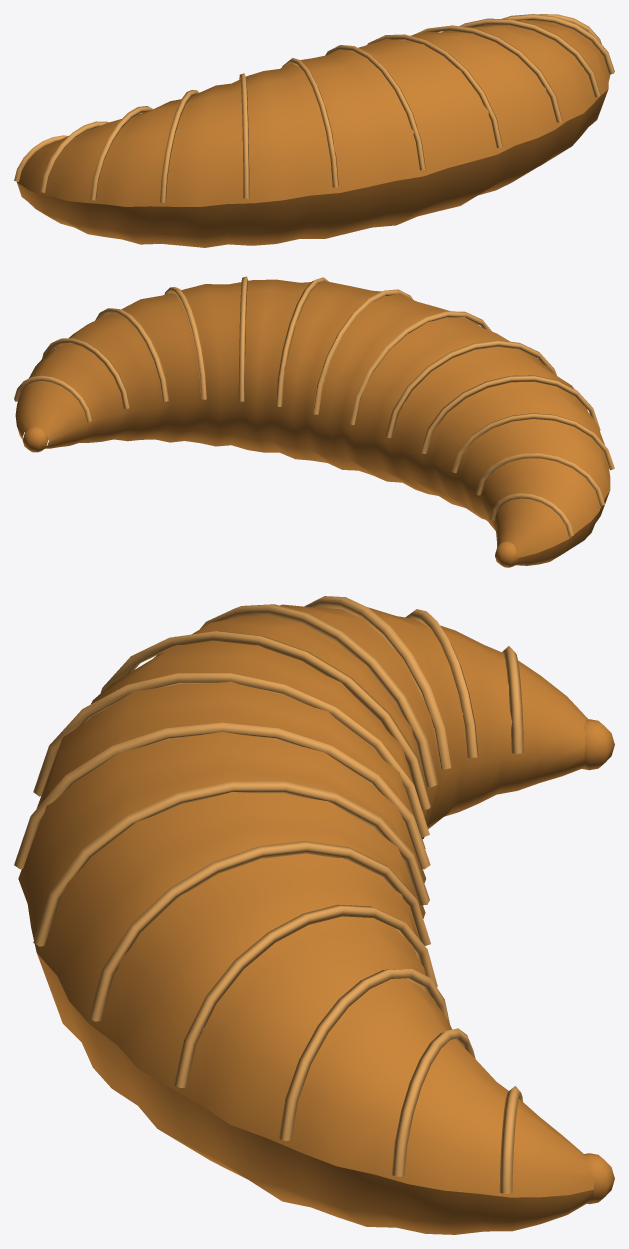
The model's file is colattao-croissant.glb.
3 renders of one model, top to bottom at view 1: azimuth 30°, elevation 25°; view 2: azimuth 150°, elevation 25°; view 3: azimuth 270°, elevation 25°, orthographic. The views are drawn at different scales.
Visible parts, largest first — view 1: toasted-pastry, laminated-golden-edge; view 2: toasted-pastry, laminated-golden-edge; view 3: toasted-pastry, laminated-golden-edge.
Boxes of the visible parts, x1=… form: toasted-pastry: x1=17, y1=20, x2=610, y2=247; laminated-golden-edge: x1=14, y1=14, x2=614, y2=202; toasted-pastry: x1=15, y1=279, x2=610, y2=567; laminated-golden-edge: x1=14, y1=276, x2=614, y2=536; toasted-pastry: x1=18, y1=604, x2=614, y2=1234; laminated-golden-edge: x1=14, y1=596, x2=523, y2=1193.
Bounding box in the file's own units: 0.1343 × 0.0369 × 0.0656.
